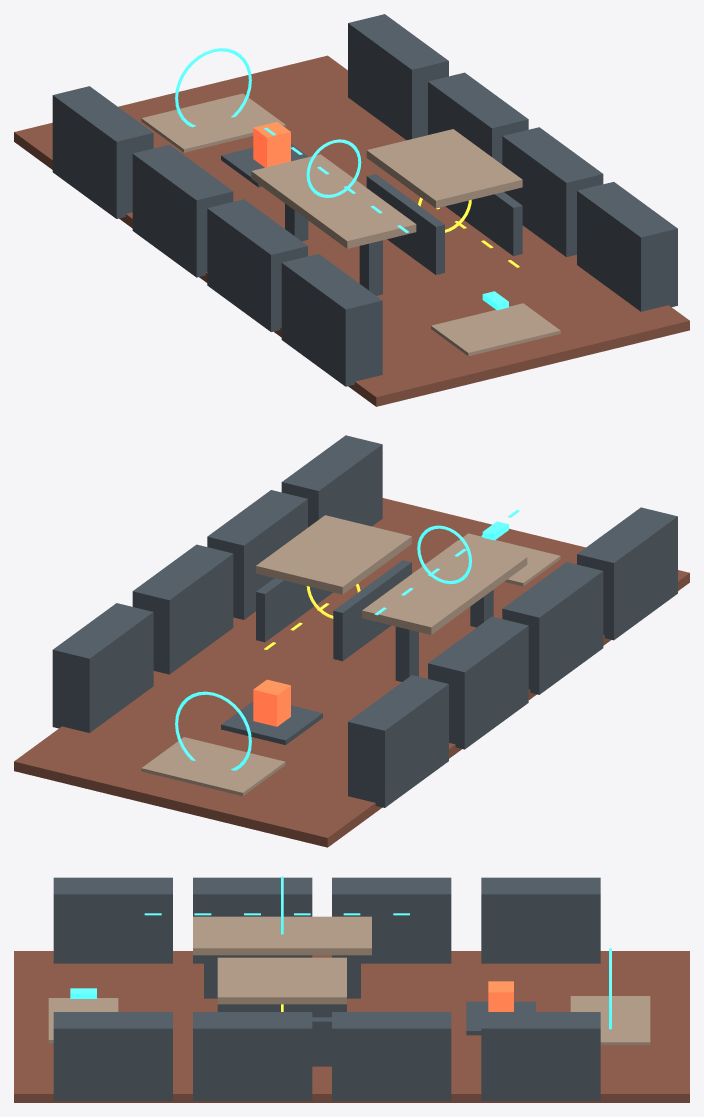
File: ridge-run-shell.candidate.glb
3 renders of one model, top to bottom at view 1: azimuth 30°, elevation 25°; view 2: azimuth 150°, elevation 25°; view 3: azimuth 270°, elevation 25°, orthographic. The views are drawn at different scales.
Parts seen in each view (by area): view 1: Ground, Ridge_-16_0, Ridge_16_0, Ridge_-16_3, Ridge_16_3, Ridge_-16_2, Ridge_-16_1, High_bridge_deck, Ridge_16_1, Low_passage_roof, Ridge_16_2, Extraction_pad (+9 smaller); view 2: Ground, Ridge_-16_3, Ridge_16_3, Ridge_-16_2, Ridge_16_2, Ridge_-16_1, Ridge_-16_0, High_bridge_deck, Low_passage_roof, Ridge_16_0, Ridge_16_1, Extraction_pad (+7 smaller); view 3: Ground, Ridge_16_0, Ridge_16_1, Ridge_16_2, Ridge_16_3, Ridge_-16_3, Ridge_-16_0, Ridge_-16_2, High_bridge_deck, Low_passage_roof, Ridge_-16_1, Extraction_pad (+7 smaller).
Part boxes in pixels (bbox=[...]): Ground: bbox=[14, 55, 689, 406]; Ridge_-16_0: bbox=[281, 254, 382, 386]; Ridge_16_0: bbox=[577, 182, 677, 311]; Ridge_-16_3: bbox=[52, 86, 153, 218]; Ridge_16_3: bbox=[348, 14, 448, 140]; Ridge_-16_2: bbox=[132, 144, 233, 277]; Ridge_-16_1: bbox=[207, 199, 307, 331]; High_bridge_deck: bbox=[251, 154, 416, 248]; Ridge_16_1: bbox=[502, 127, 603, 257]; Low_passage_roof: bbox=[366, 129, 522, 208]; Ridge_16_2: bbox=[428, 72, 528, 164]; Extraction_pad: bbox=[141, 93, 285, 152]; Ground: bbox=[14, 498, 689, 847]; Ridge_-16_3: bbox=[348, 675, 448, 807]; Ridge_16_3: bbox=[52, 603, 153, 732]; Ridge_-16_2: bbox=[428, 616, 528, 749]; Ridge_16_2: bbox=[132, 544, 233, 674]; Ridge_-16_1: bbox=[502, 562, 603, 694]; Ridge_-16_0: bbox=[577, 507, 677, 640]; High_bridge_deck: bbox=[362, 540, 527, 634]; Low_passage_roof: bbox=[256, 515, 411, 594]; Ridge_16_0: bbox=[281, 435, 382, 527]; Ridge_16_1: bbox=[207, 490, 307, 619]; Extraction_pad: bbox=[141, 737, 285, 796]; Ground: bbox=[14, 951, 689, 1102]; Ridge_16_0: bbox=[53, 1012, 172, 1100]; Ridge_16_1: bbox=[193, 1012, 312, 1100]; Ridge_16_2: bbox=[332, 1012, 451, 1100]; Ridge_16_3: bbox=[481, 1012, 600, 1100]; Ridge_-16_3: bbox=[481, 877, 600, 963]; Ridge_-16_0: bbox=[53, 877, 172, 963]; Ridge_-16_2: bbox=[332, 877, 451, 963]; High_bridge_deck: bbox=[193, 916, 371, 955]; Low_passage_roof: bbox=[217, 957, 346, 1004]; Ridge_-16_1: bbox=[193, 877, 312, 963]; Extraction_pad: bbox=[570, 996, 650, 1045].
Size of the model in its own units: 36 by 14.16 by 68.
